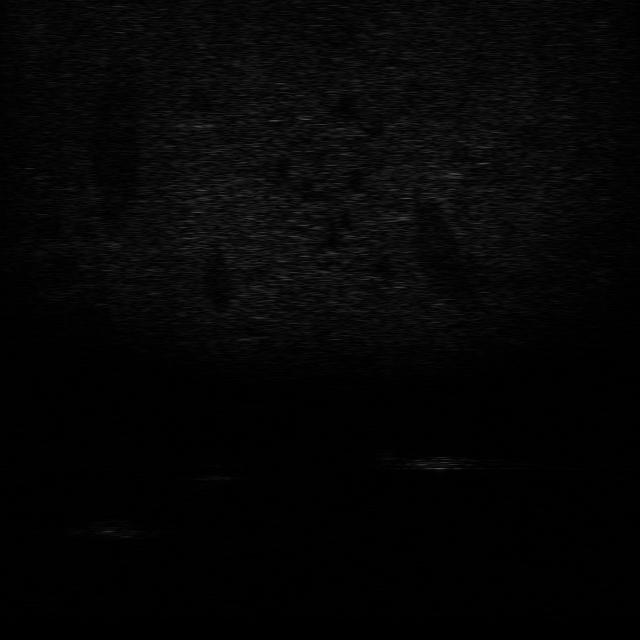ball: (195, 457, 240, 484)
circle cage: (59, 509, 145, 541)
human body: (374, 444, 478, 474)
